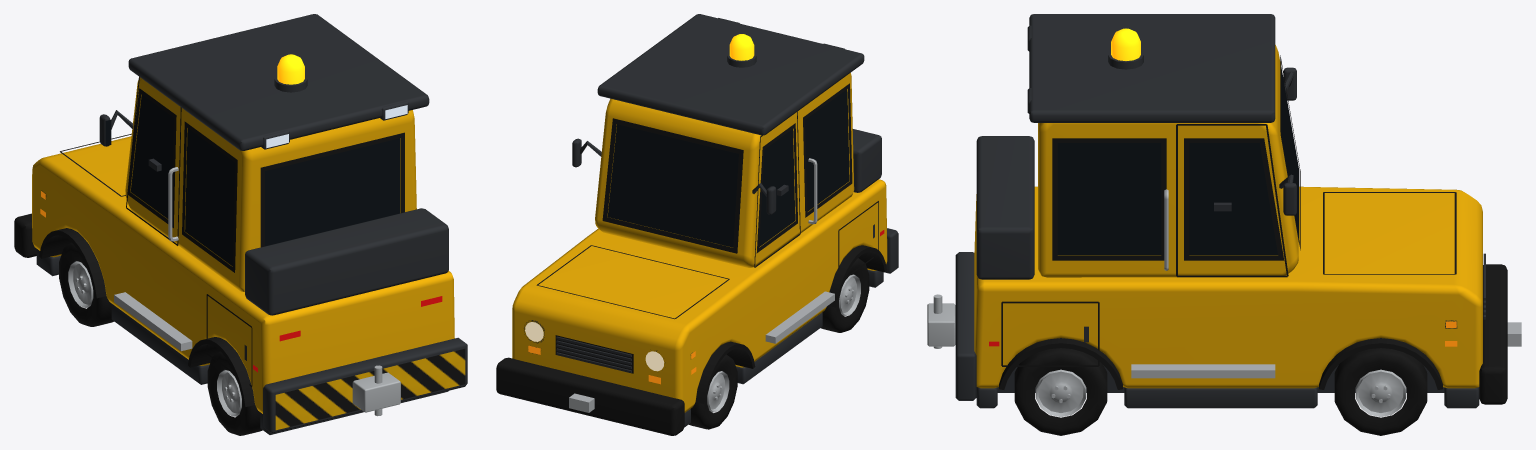
File: baggage_tractor.glb
3 views of the same model, side by side, from view 1: azimuth 30°, elevation 25°; view 2: azimuth 150°, elevation 25°; view 3: azimuth 270°, elevation 25° (orthographic). The views are drawn at different scales.
Parts seen in each view (by area): view 1: Body, Wheels; view 2: Body, Wheels; view 3: Body, Wheels.
Part boxes in pixels (bbox=[...]): Body: bbox=[14, 14, 467, 434]; Wheels: bbox=[59, 242, 262, 435]; Body: bbox=[496, 14, 898, 435]; Wheels: bbox=[689, 258, 869, 429]; Body: bbox=[927, 14, 1521, 408]; Wheels: bbox=[1014, 348, 1427, 435].
Size of what is drawn, in the model's own units: 1.6 by 2.25 by 3.38.
8 materials, 2 textured.
